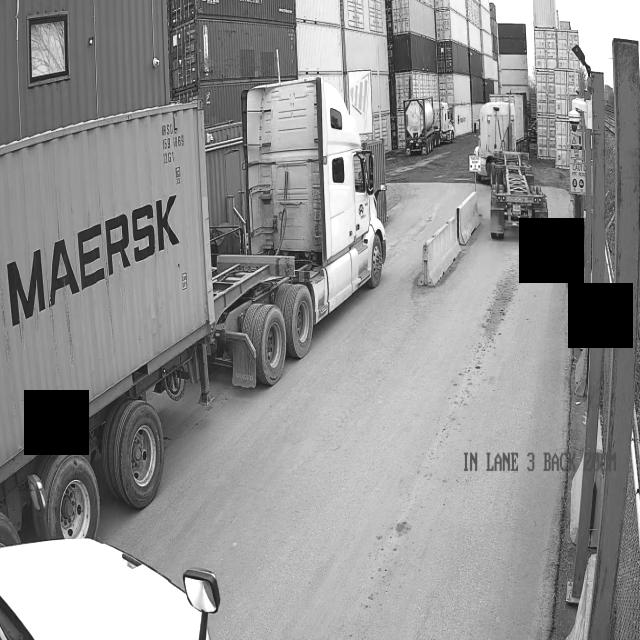container_company_logo: (7, 195, 179, 325)
container_number: (157, 121, 188, 187)
truck_with_container: (0, 76, 386, 636), (48, 224, 106, 306), (131, 199, 179, 261), (7, 249, 45, 325), (104, 215, 131, 275)
